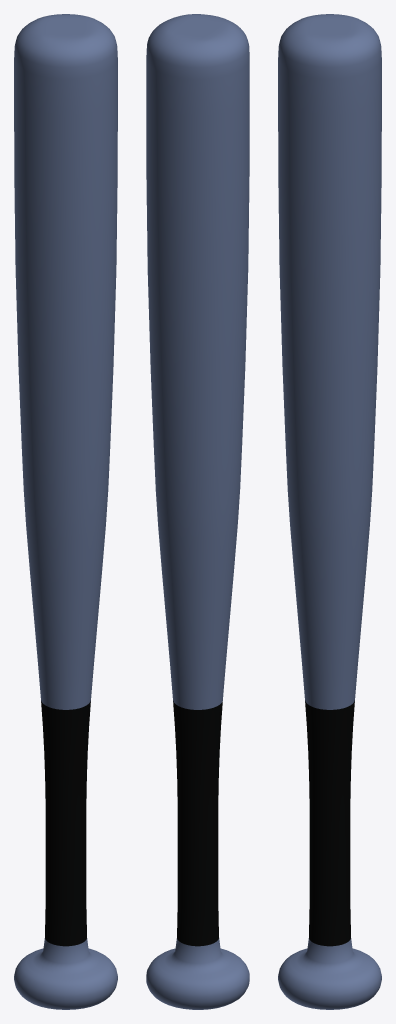
Rendered from bat-metal-f1e34252f356.glb.
3 renders of one model, left to right at view 1: azimuth 90°, elevation 25°; view 2: azimuth 150°, elevation 25°; view 3: azimuth 270°, elevation 25°, orthographic.
Visible parts, largest first — view 1: Bat1; view 2: Bat1; view 3: Bat1.
Boxes of the visible parts, <box> form: Bat1: <box>14,14,117,1009</box>; Bat1: <box>146,14,249,1009</box>; Bat1: <box>278,14,381,1009</box>.
Bounding box in the file's own units: 0.0975 × 1 × 0.0975.
